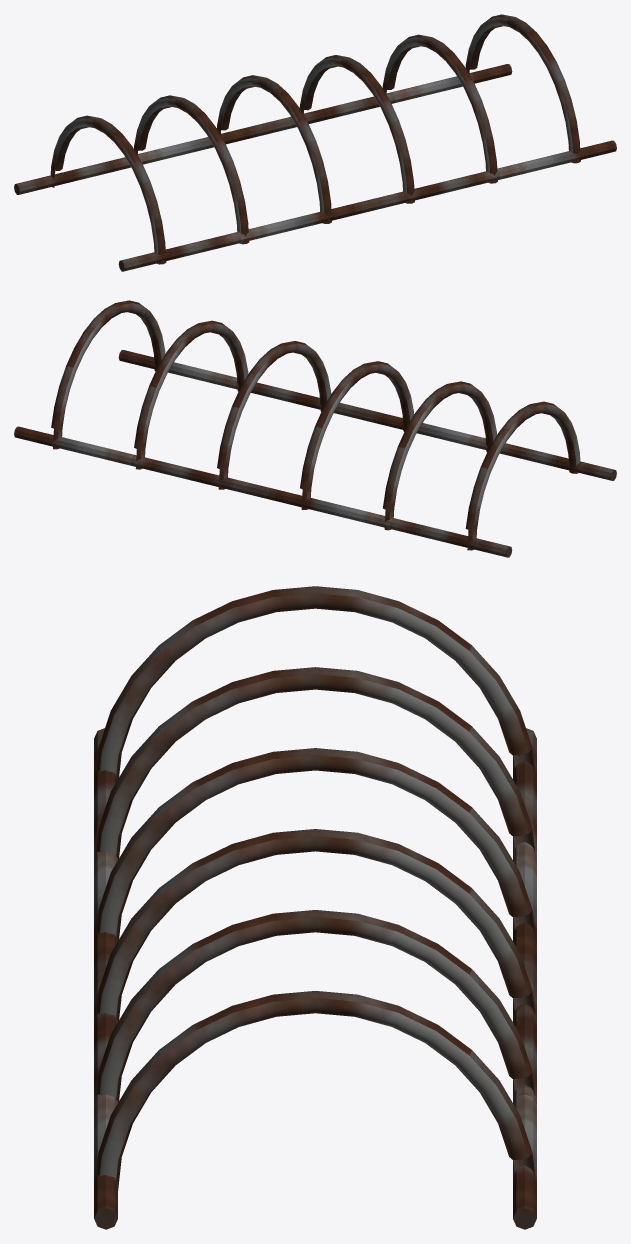
File: ST23_BikeStand.glb
3 views of the same model, one above another, from view 1: azimuth 30°, elevation 25°; view 2: azimuth 150°, elevation 25°; view 3: azimuth 270°, elevation 25° (orthographic). The views are drawn at different scales.
Parts seen in each view (by area): view 1: ST23_BikeStand; view 2: ST23_BikeStand; view 3: ST23_BikeStand.
Part boxes in pixels (bbox=[...]): ST23_BikeStand: bbox=[14, 14, 616, 271]; ST23_BikeStand: bbox=[14, 300, 616, 557]; ST23_BikeStand: bbox=[94, 586, 536, 1229].
Size of the model in its own units: 2 by 0.3895 by 0.7789.
Materials: 1 (1 with a texture image).
